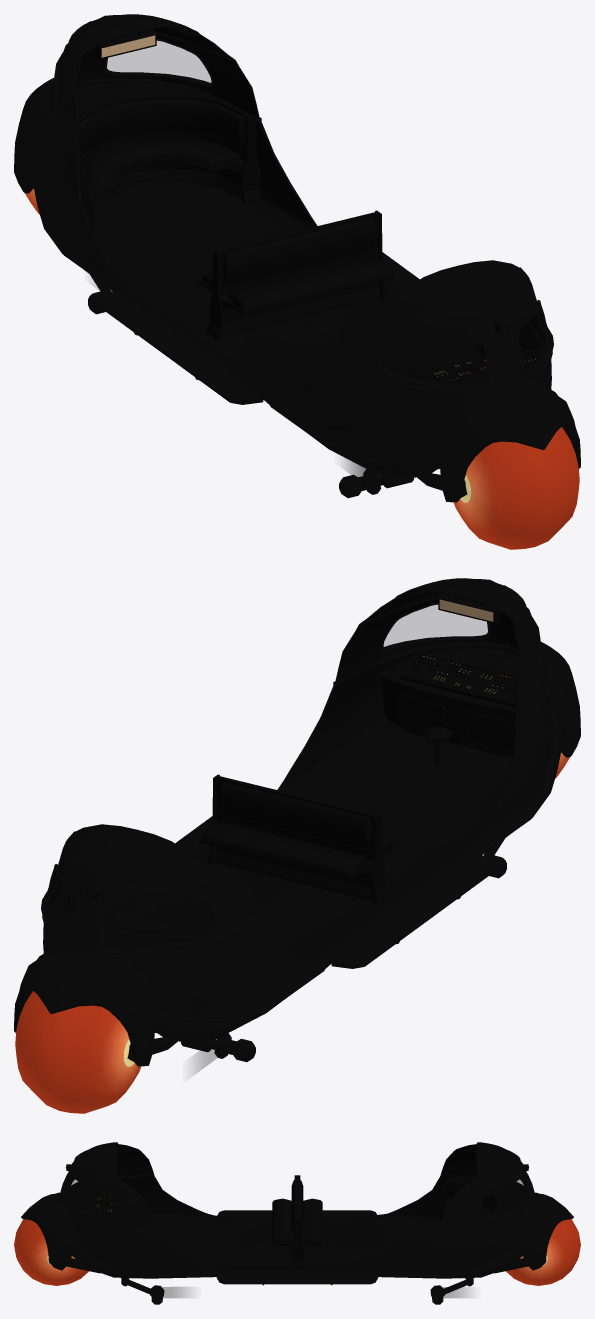
Rendered from pm-train-01.glb.
3 views of the same model, one above another, from view 1: azimuth 30°, elevation 25°; view 2: azimuth 150°, elevation 25°; view 3: azimuth 270°, elevation 25° (orthographic). The views are drawn at different scales.
Visible parts, largest first — view 1: Train_01_Art; view 2: Train_01_Art; view 3: Train_01_Art.
Part boxes in pixels (bbox=[...]): Train_01_Art: bbox=[14, 14, 580, 549]; Train_01_Art: bbox=[14, 578, 580, 1113]; Train_01_Art: bbox=[14, 1142, 580, 1304].
Size of the model in its own units: 5.02 by 4.35 by 16.59.
5 materials, 4 textured.
